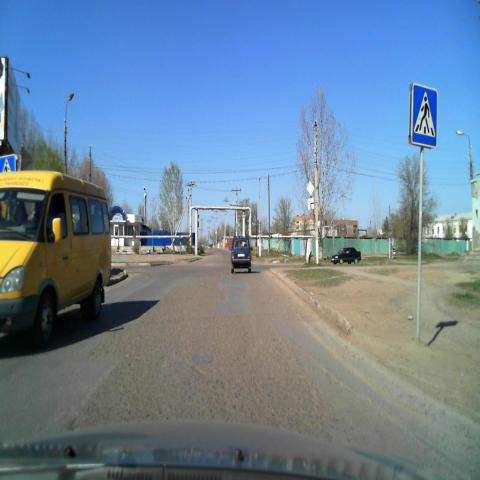5_19_1: (409, 85, 437, 148)
8_13: (306, 197, 315, 209)
